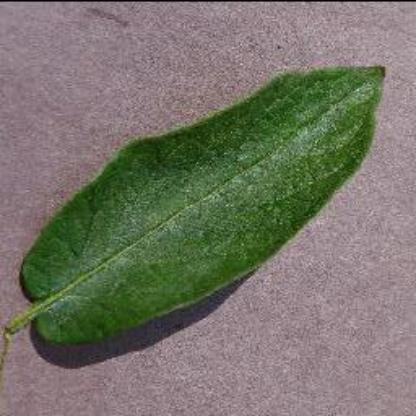Healthy-plant: (17, 40, 404, 356)
